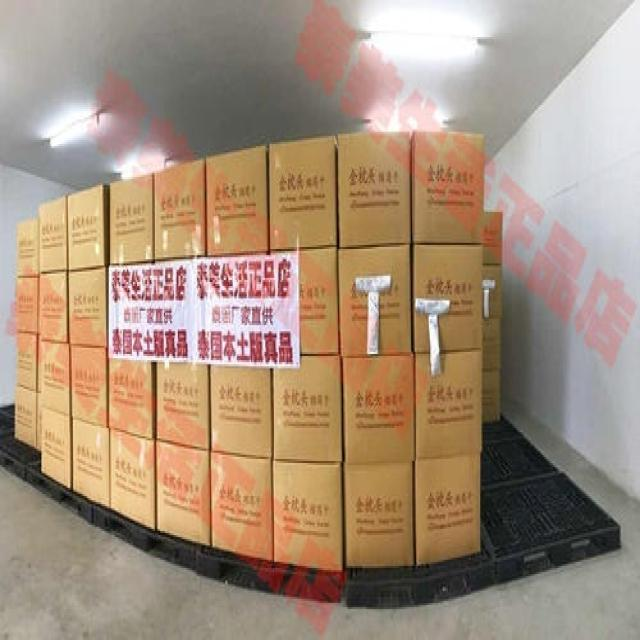box: (410, 131, 485, 243), (338, 132, 410, 247), (339, 244, 411, 356), (343, 353, 414, 463), (269, 135, 337, 249), (273, 460, 342, 570), (414, 244, 483, 353), (343, 460, 413, 566), (273, 355, 342, 462), (416, 349, 483, 459), (415, 453, 480, 565), (206, 146, 268, 256), (211, 452, 272, 561), (211, 365, 272, 458), (156, 441, 210, 546), (154, 159, 205, 260), (157, 362, 210, 451), (110, 428, 155, 530), (300, 247, 340, 353), (110, 173, 153, 264), (108, 359, 156, 439), (67, 184, 109, 270), (72, 419, 111, 507), (68, 268, 107, 347), (70, 345, 107, 428), (41, 407, 71, 489), (41, 342, 69, 416), (40, 195, 67, 271), (40, 271, 68, 344), (15, 384, 36, 448), (17, 218, 39, 277), (16, 331, 36, 391), (17, 277, 38, 334), (483, 315, 502, 371), (483, 212, 502, 265), (482, 266, 502, 316), (483, 369, 501, 422), (36, 391, 41, 451), (36, 335, 41, 393)
